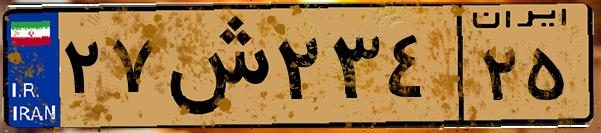2: (270, 28, 330, 110), (57, 26, 110, 100), (475, 38, 525, 113)
3: (330, 28, 385, 110)
4: (385, 28, 445, 110)
5: (525, 38, 570, 115)
7: (110, 28, 158, 98)
ش: (158, 12, 270, 120)
